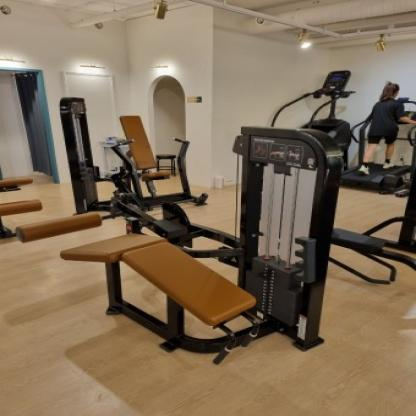reg curl machine: (16, 127, 356, 366)
